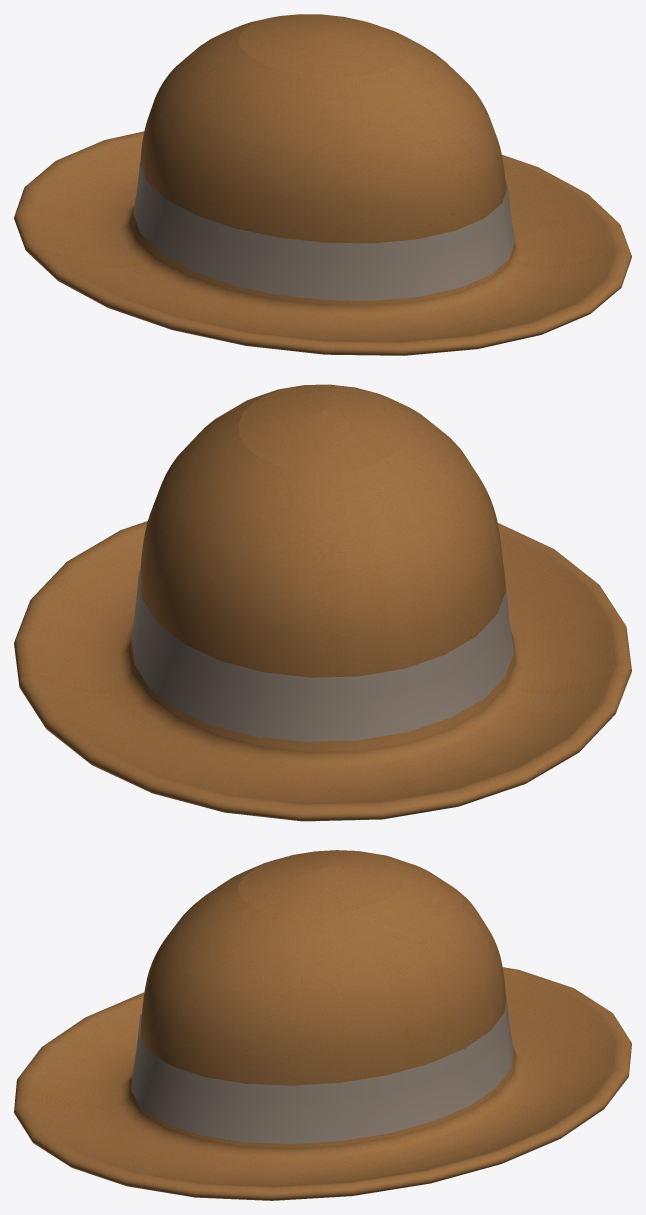
3 renders of one model, top to bottom at view 1: azimuth 30°, elevation 25°; view 2: azimuth 150°, elevation 25°; view 3: azimuth 270°, elevation 25°, orthographic. The views are drawn at different scales.
Visible parts, largest first — view 1: group_2, group_1; view 2: group_2, group_1; view 3: group_2, group_1.
Part boxes in pixels (x1=…): group_2: x1=14, y1=14, x2=631, y2=355; group_1: x1=133, y1=162, x2=515, y2=300; group_2: x1=14, y1=384, x2=631, y2=821; group_1: x1=131, y1=569, x2=513, y2=742; group_2: x1=14, y1=850, x2=631, y2=1200; group_1: x1=131, y1=993, x2=513, y2=1144.
Bounding box in the file's own units: 228 × 248 × 101.
